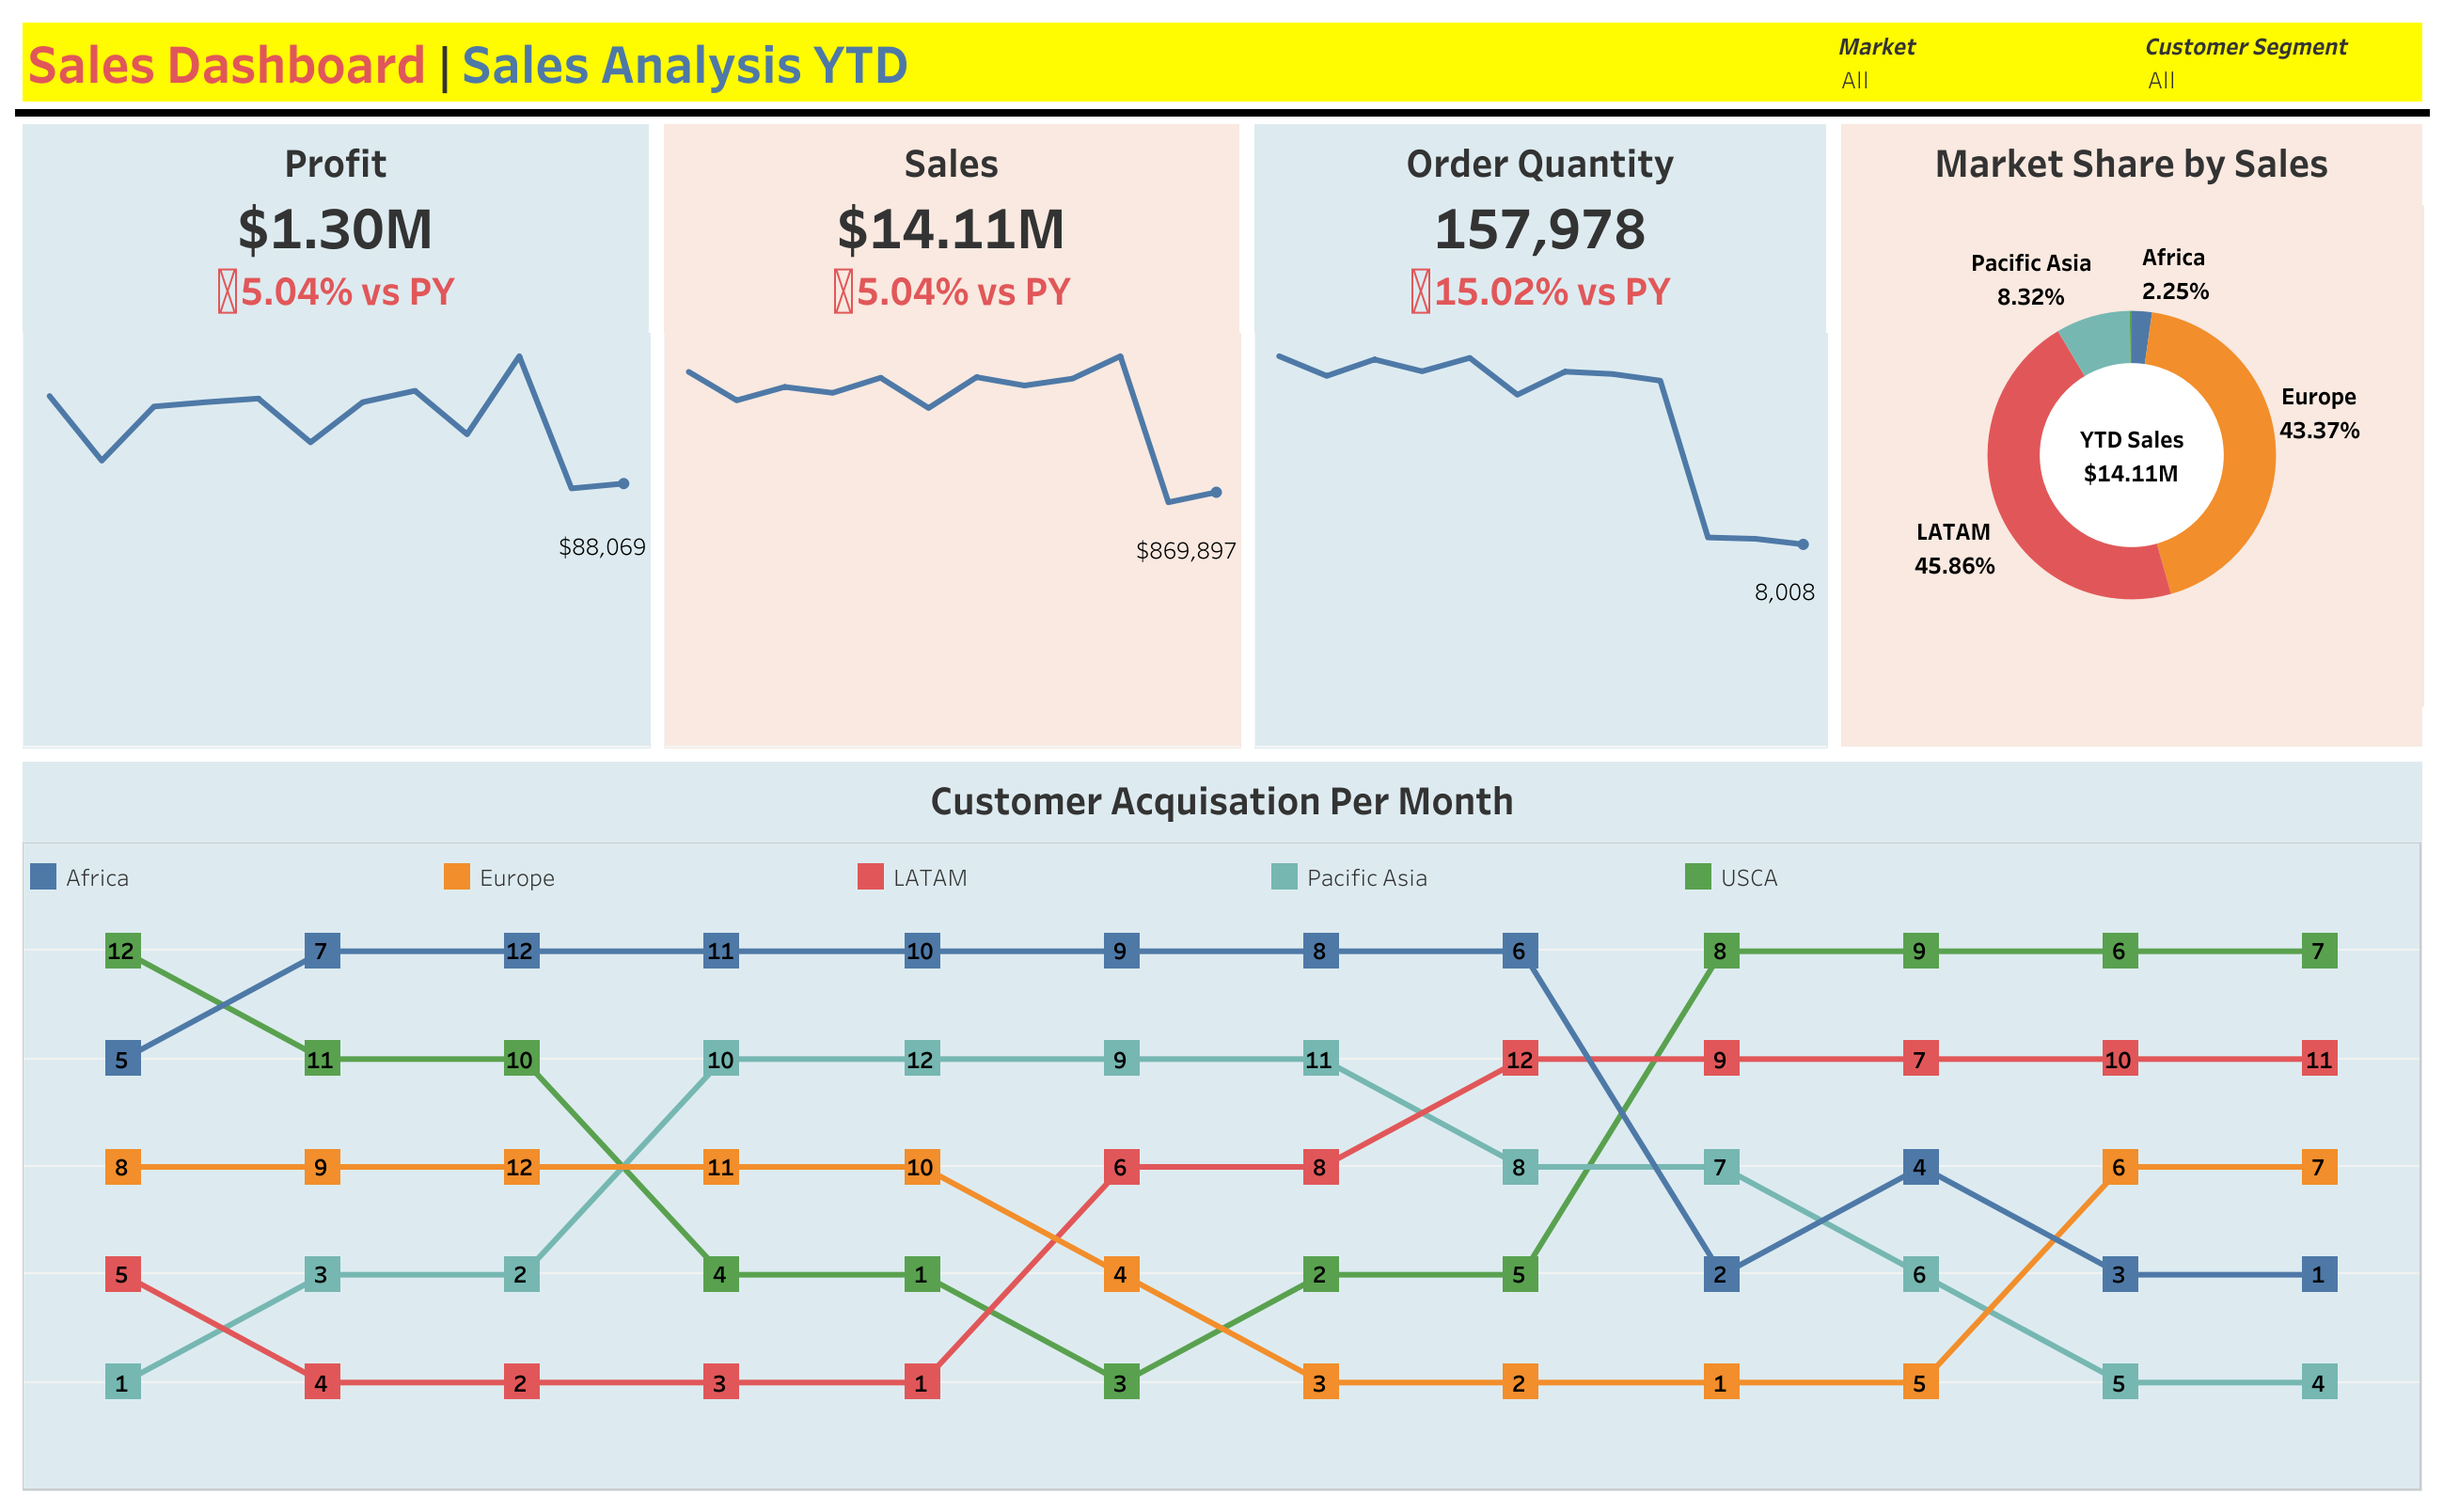

The page's visual inventory and layout, read from the dashboard file:
{"tool":"tableau","page":{"name":"Sales Analysis Dashboard","canvas":[1000,1000],"units":"permille","ordinal":0},"visuals":[{"type":"title","box":[8.4,10.4,983.2,65.1]},{"type":"filter","title":"Profit","param":"[federated.16yk0q81ff1lxm13fkuzh0n9d7s2].[none:Market:nk]","box":[751.2,16.9,123.6,66.4]},{"type":"filter","title":"Profit","param":"[federated.16yk0q81ff1lxm13fkuzh0n9d7s2].[none:Customer Segment:nk]","box":[877.2,16.9,111.8,59.9]},{"type":"worksheet","title":"Profit","mark":"Automatic","rows":["Profit Per Order"],"cols":["Order Date"],"box":[8.4,80.7,261.4,419.3]},{"type":"worksheet","title":"Sales","mark":"Automatic","rows":["Sales"],"cols":["Order Date"],"box":[269.8,80.7,240,419.3]},{"type":"worksheet","title":"Order Quantity","mark":"Automatic","rows":["Order Quantity"],"cols":["Order Date"],"box":[509.8,80.7,239.1,419.3]},{"type":"worksheet","title":"Market Share by Sales","mark":"Pie","cols":["Calculation_2206904583114825760","Calculation_2206904583114764319"],"box":[748.9,80.7,242.7,419.3]},{"type":"worksheet","title":"Customer Acquisation","mark":"Automatic","cols":["Order Date"],"box":[8.4,500,983.2,489.6]},{"type":"legend","title":"Customer Acquisation","param":"[federated.16yk0q81ff1lxm13fkuzh0n9d7s2].[none:Market:nk]","box":[9.8,566.4,976.7,27.3]}]}

Visuals, with their boxes on the dashboard's canvas, which has no fixed pixel size, in thousandths of its width and height (x1, y1, x2, y2). These are canvas units, not pixel positions in the 2443x1512 screenshot, which may show the page scaled, cropped or inside an application window:
title: l=8, t=10, r=992, b=76
"Profit" filter: l=751, t=17, r=875, b=83
"Profit" filter: l=877, t=17, r=989, b=77
"Profit" worksheet: l=8, t=81, r=270, b=500
"Sales" worksheet: l=270, t=81, r=510, b=500
"Order Quantity" worksheet: l=510, t=81, r=749, b=500
"Market Share by Sales" worksheet (Pie marks): l=749, t=81, r=992, b=500
"Customer Acquisation" worksheet: l=8, t=500, r=992, b=990
"Customer Acquisation" legend: l=10, t=566, r=986, b=594
